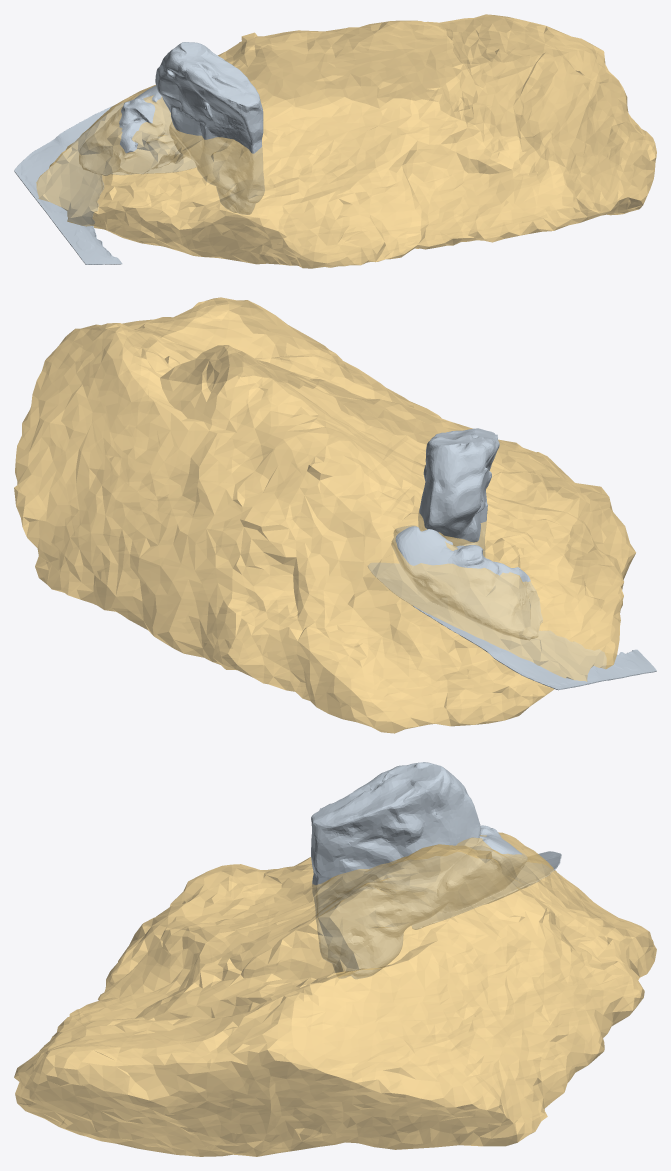
3 views of the same model, one above another, from view 1: azimuth 30°, elevation 25°; view 2: azimuth 150°, elevation 25°; view 3: azimuth 270°, elevation 25° (orthographic). The views are drawn at different scales.
Visible parts, largest first — view 1: truth, imagination; view 2: truth, imagination; view 3: truth, imagination.
Part boxes in pixels (left/top/right/bottom): truth: left=36, top=14, right=656, bottom=268; imagination: left=14, top=42, right=264, bottom=264; truth: left=14, top=297, right=635, bottom=733; imagination: left=368, top=428, right=656, bottom=690; truth: left=14, top=832, right=656, bottom=1156; imagination: left=311, top=762, right=561, bottom=978.
Bounding box in the file's own units: 1.22 × 0.4085 × 1.08.
